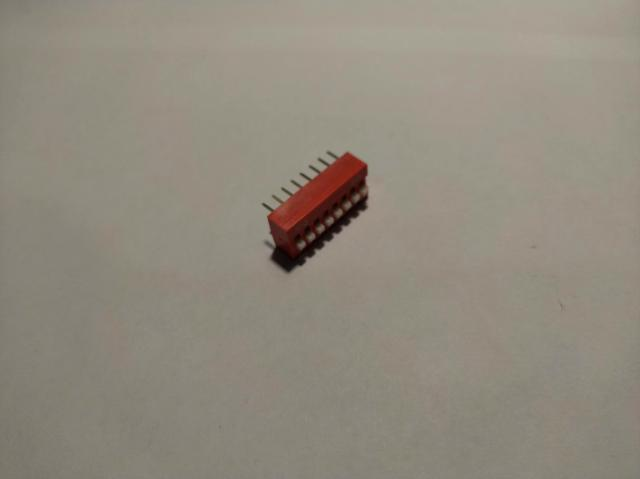dip_switch: (261, 149, 367, 258)
